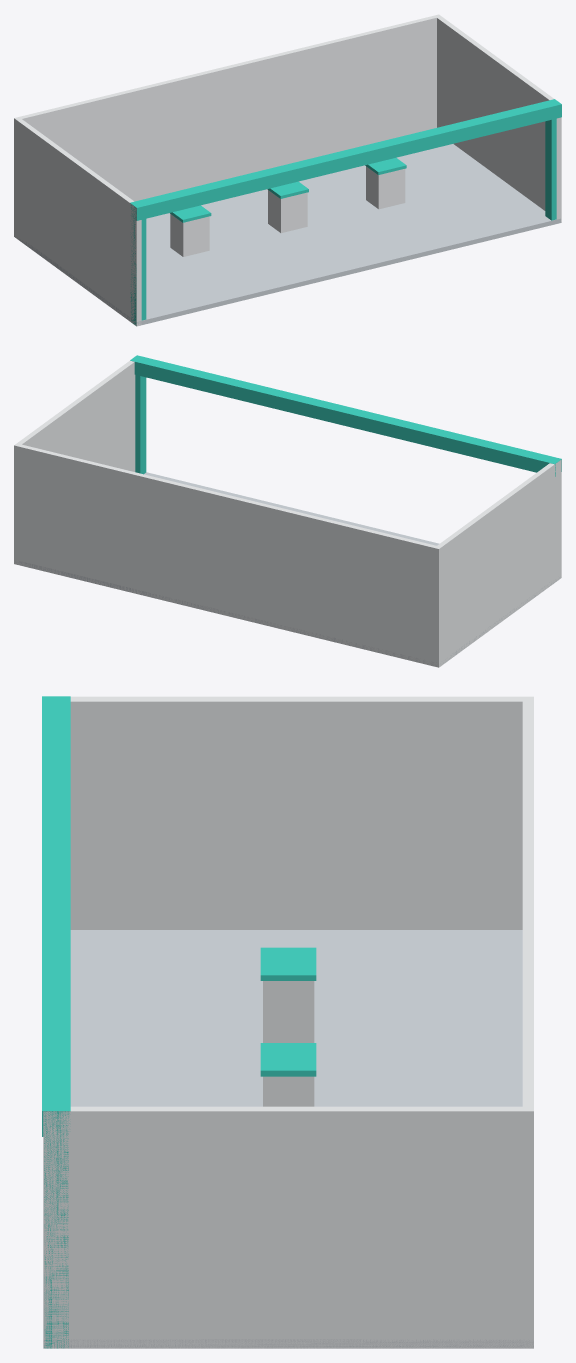
The picture shows the model from 3 angles, top to bottom: view 1: azimuth 30°, elevation 25°; view 2: azimuth 150°, elevation 25°; view 3: azimuth 270°, elevation 25°; orthographic projection. The views are drawn at different scales.
Visible parts, largest first — view 1: Exhibition Booth Concept; view 2: Exhibition Booth Concept; view 3: Exhibition Booth Concept.
Part boxes in pixels (x1,y1,x2,y2): Exhibition Booth Concept: (14,14,561,326); Exhibition Booth Concept: (14,355,561,667); Exhibition Booth Concept: (42,696,533,1348).
Size of the model in its own units: 12 by 3.2 by 6.02.
